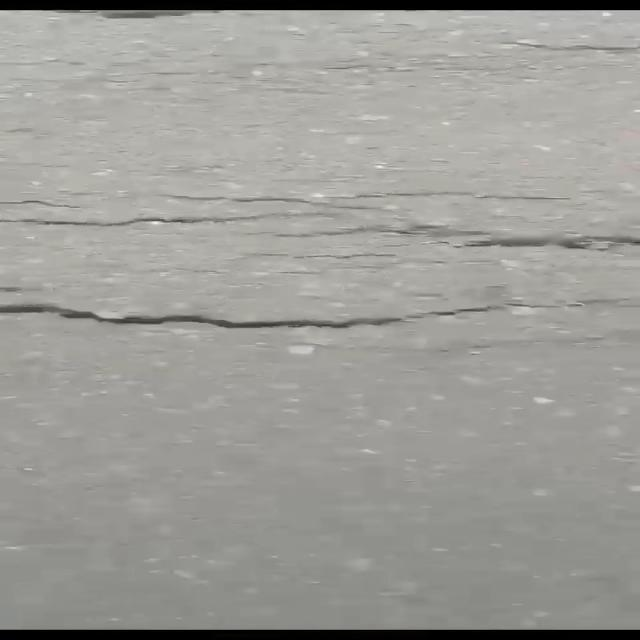Melintang: (0, 194, 640, 263), (0, 289, 640, 345)
